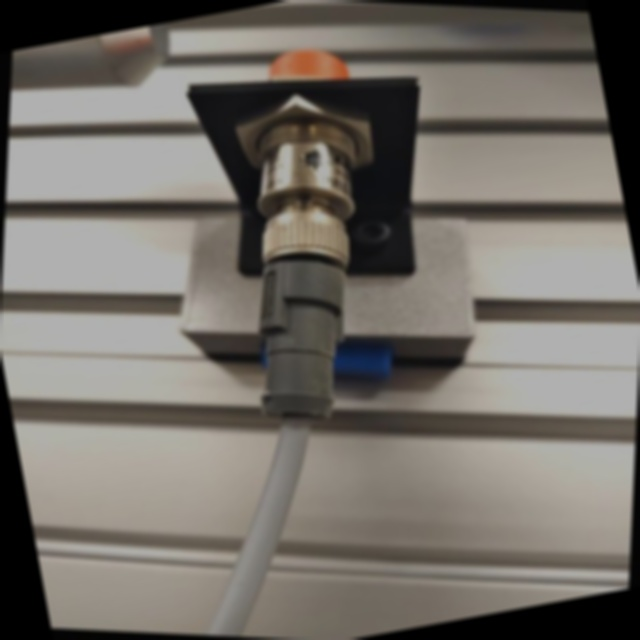inductive sensor: (86, 0, 570, 489)
